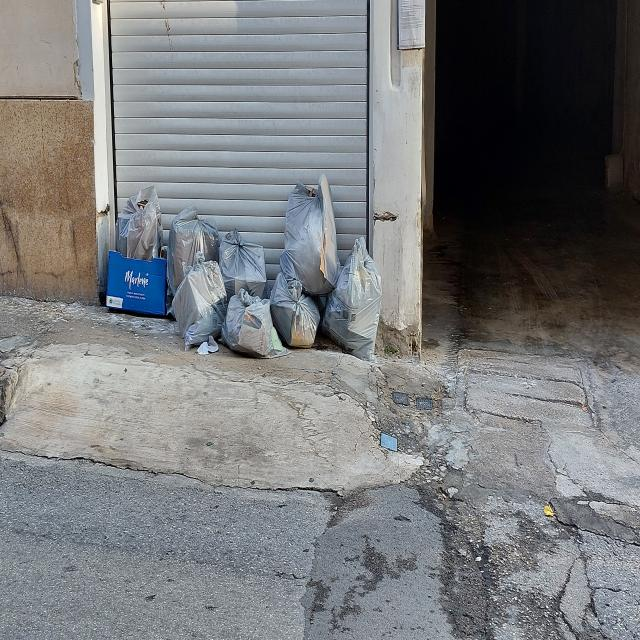Other: (107, 252, 168, 316)
Recycled Waste -Grey or Green Bag-: (323, 237, 383, 365), (281, 175, 343, 296), (167, 203, 220, 322), (172, 252, 228, 353), (223, 289, 293, 359), (220, 229, 273, 308), (271, 273, 322, 349), (117, 186, 165, 263)
